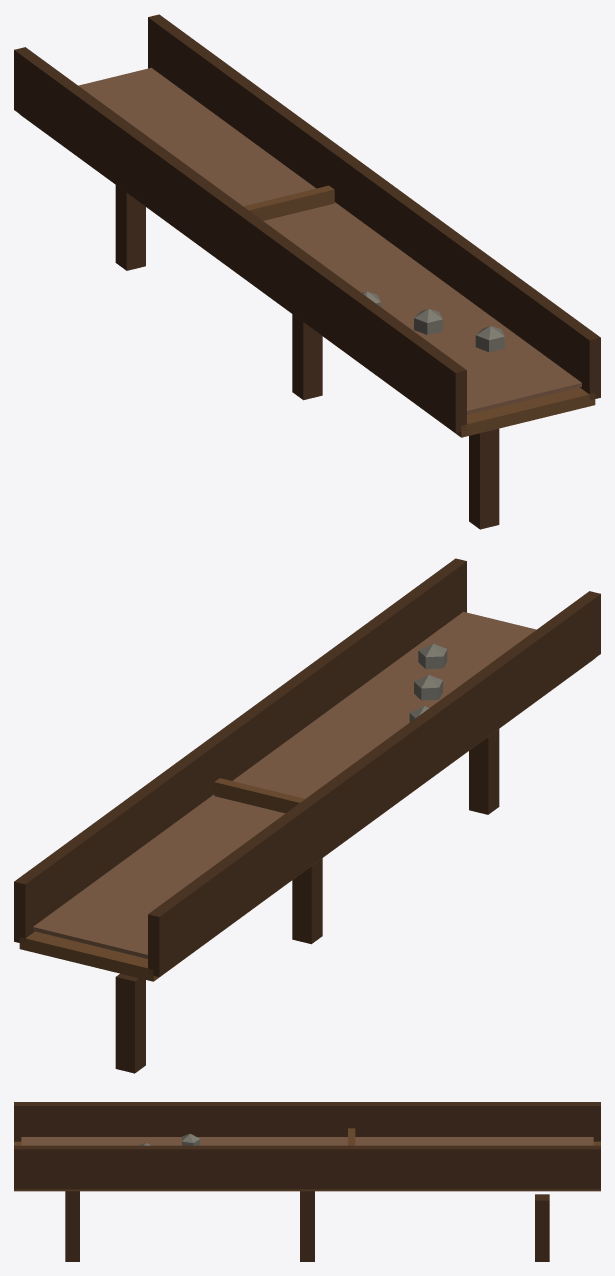
File: soegol_wash_flume.glb
3 views of the same model, one above another, from view 1: azimuth 30°, elevation 25°; view 2: azimuth 150°, elevation 25°; view 3: azimuth 270°, elevation 25° (orthographic). The views are drawn at different scales.
Parts seen in each view (by area): view 1: soegol_wash_flume; view 2: soegol_wash_flume; view 3: soegol_wash_flume.
Part boxes in pixels (<box>): soegol_wash_flume: <box>14,14,600,529</box>; soegol_wash_flume: <box>14,558,600,1073</box>; soegol_wash_flume: <box>14,1102,600,1261</box>.
Bounding box in the file's own units: 0.76 × 1 × 4.
